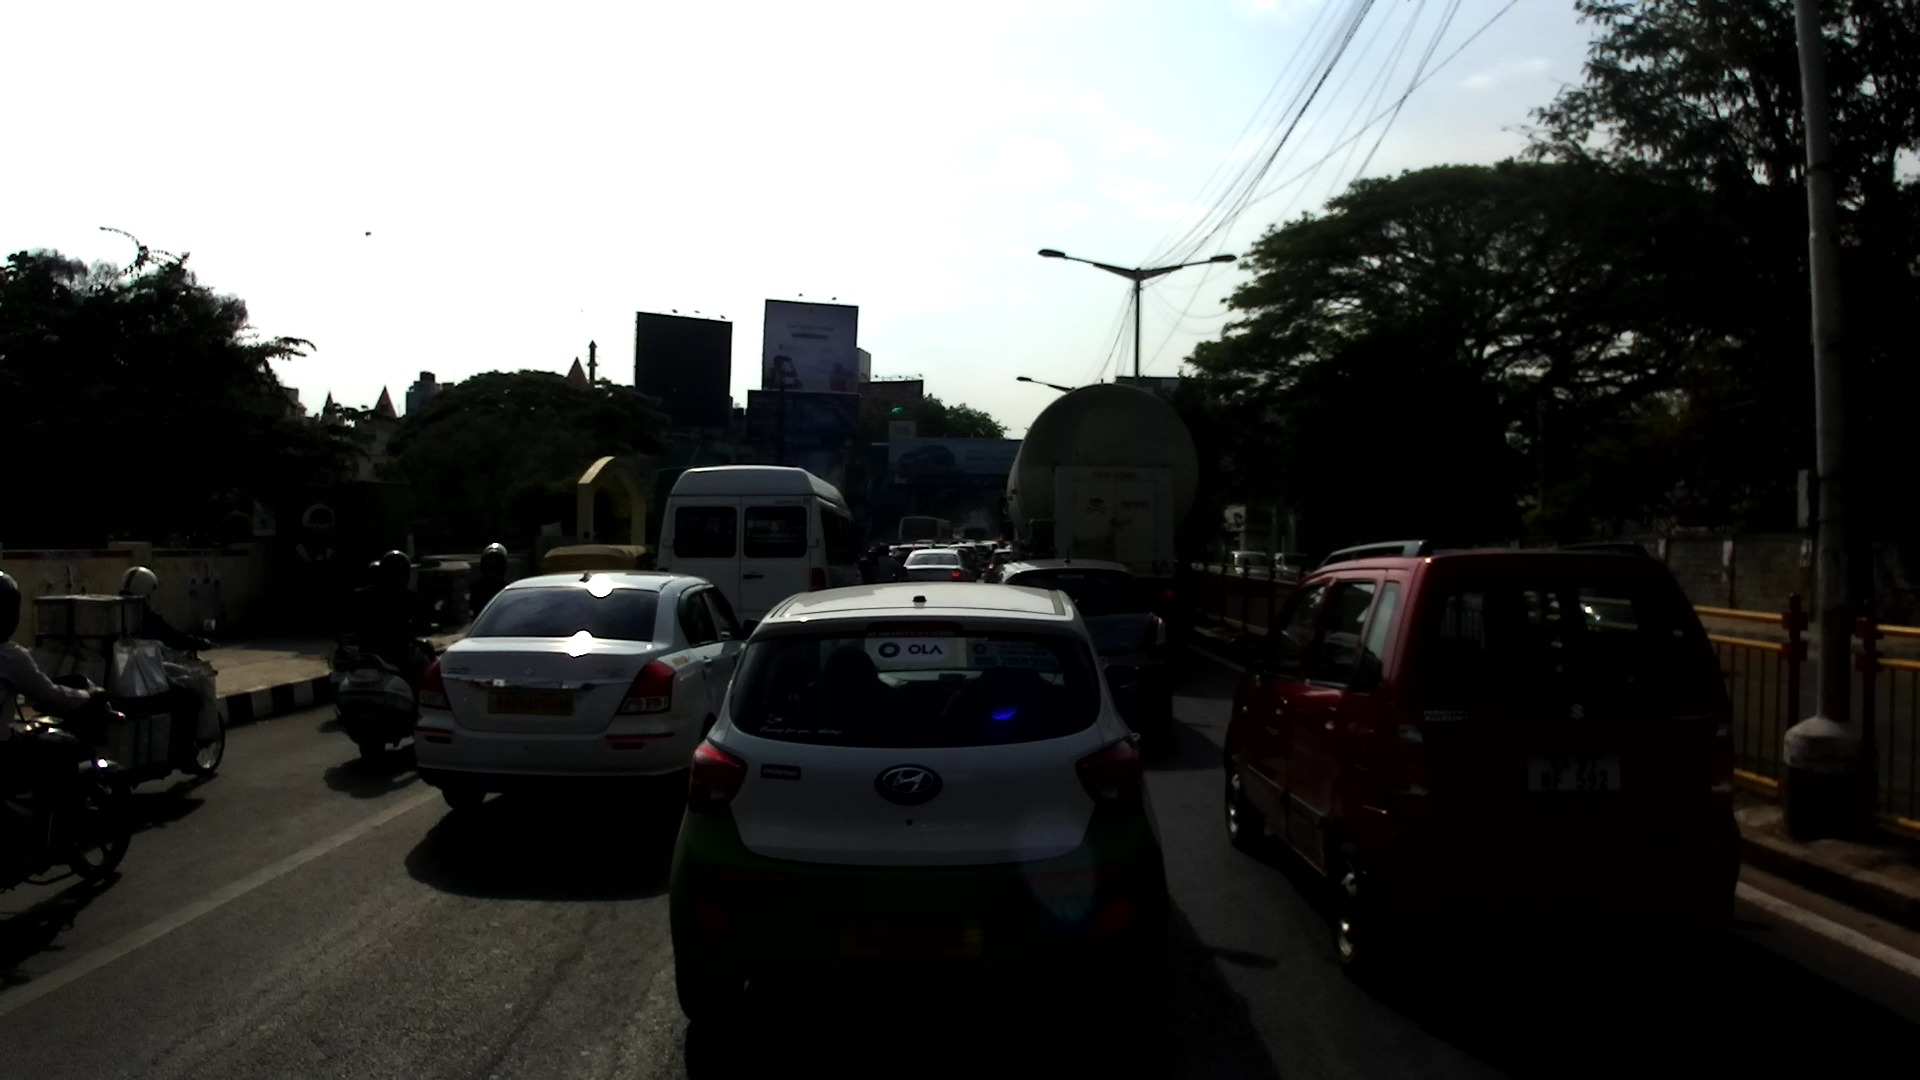autorickshaw: (543, 543, 651, 576)
bus: (657, 463, 862, 621), (898, 515, 954, 549), (961, 522, 988, 541)
car: (668, 579, 1173, 1029), (1222, 539, 1742, 973), (415, 567, 756, 812), (991, 558, 1171, 732), (902, 549, 976, 583), (936, 541, 984, 571), (1222, 548, 1270, 577), (985, 549, 1020, 583), (1272, 552, 1309, 582), (872, 543, 915, 564), (958, 543, 980, 565), (976, 543, 989, 564), (913, 539, 937, 548), (982, 537, 997, 551), (913, 543, 931, 548)
motorcycle: (1, 672, 138, 894), (81, 620, 227, 780), (336, 596, 443, 771), (323, 642, 354, 724), (974, 559, 987, 580)
rider: (1, 570, 106, 860), (102, 565, 216, 778), (356, 552, 435, 706), (471, 543, 510, 621), (350, 554, 380, 650), (869, 545, 904, 582), (862, 545, 881, 580), (856, 557, 875, 586), (977, 545, 1003, 565), (922, 542, 936, 554)
traffic light: (890, 404, 906, 422)
truck: (998, 385, 1199, 668)
vehicle fallback: (949, 525, 965, 543)
